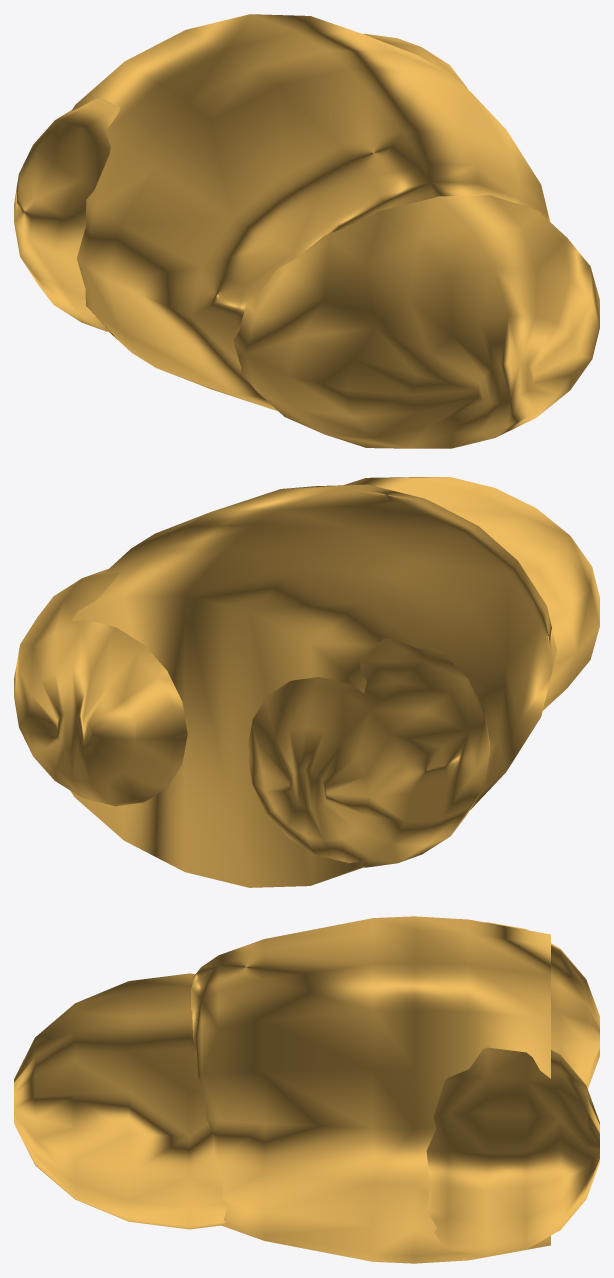
File: lower_body.dae
3 renders of one model, top to bottom at view 1: azimuth 30°, elevation 25°; view 2: azimuth 150°, elevation 25°; view 3: azimuth 270°, elevation 25°, orthographic. The views are drawn at different scales.
Visible parts, largest first — view 1: Node_000001982B1DD870; view 2: Node_000001982B1DD870; view 3: Node_000001982B1DD870.
Boxes of the visible parts, x1,y1,x2,y2 form: Node_000001982B1DD870: (14, 14, 599, 448); Node_000001982B1DD870: (14, 477, 599, 887); Node_000001982B1DD870: (14, 916, 599, 1263).
Bounding box in the file's own units: 0.3213 × 0.2122 × 0.392.
